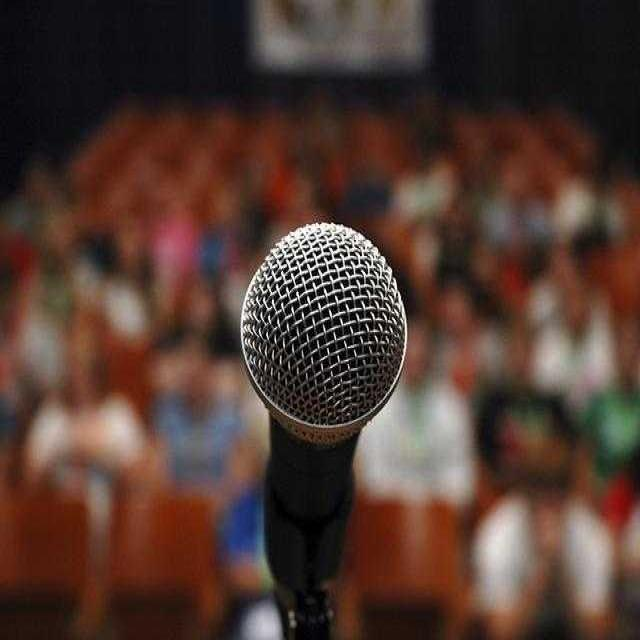microphone: (236, 213, 414, 635)
